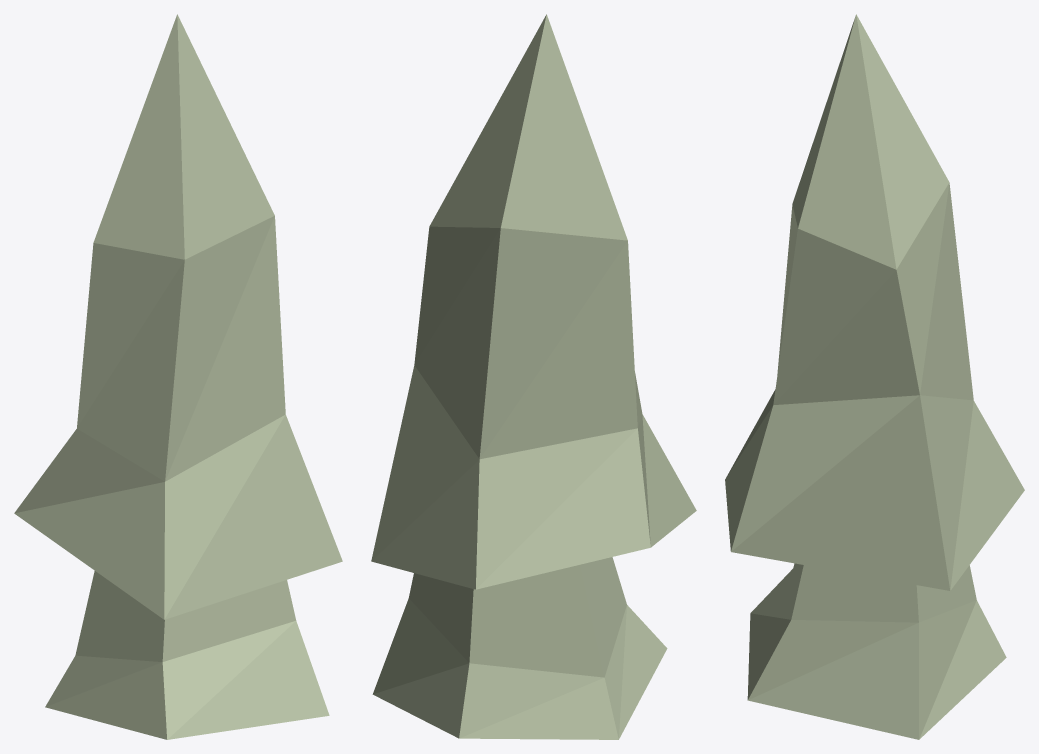
Rendered from CalocedrusDecurrens.glb.
3 views of the same model, side by side, from view 1: azimuth 30°, elevation 25°; view 2: azimuth 150°, elevation 25°; view 3: azimuth 270°, elevation 25° (orthographic). The views are drawn at different scales.
Visible parts, largest first — view 1: Crown; view 2: Crown; view 3: Crown.
Boxes of the visible parts, x1,y1,x2,y2 form: Crown: (14, 14, 342, 739); Crown: (371, 14, 696, 739); Crown: (725, 14, 1024, 739).
Bounding box in the file's own units: 8.39 × 20.96 × 8.33.
